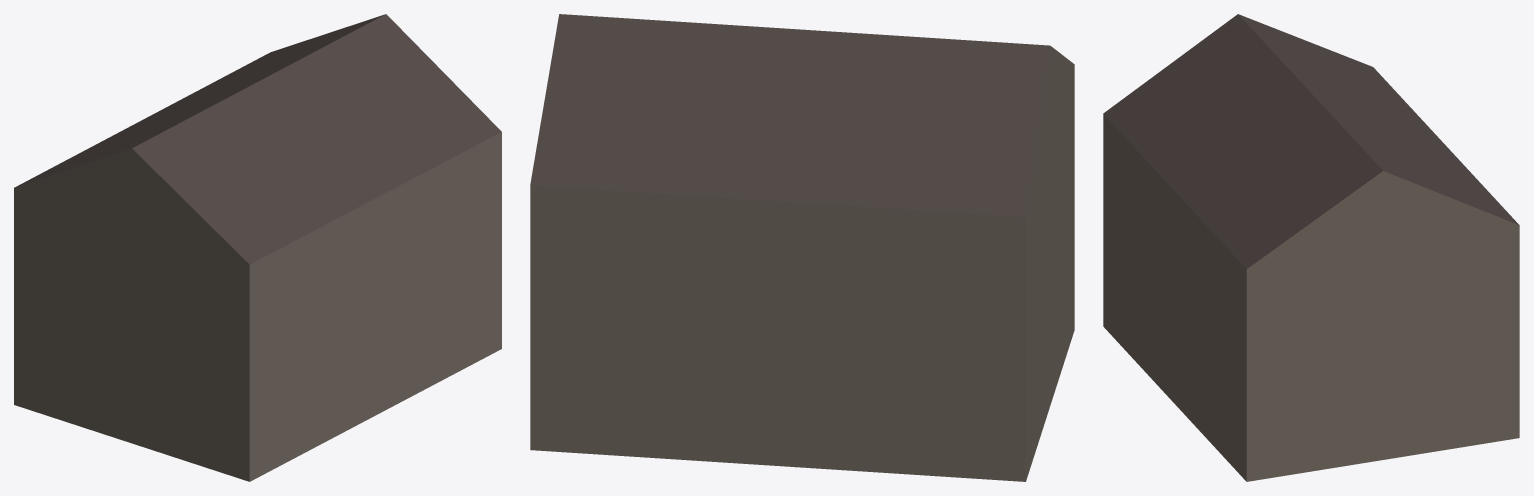
3 renders of one model, left to right at view 1: azimuth 30°, elevation 25°; view 2: azimuth 150°, elevation 25°; view 3: azimuth 270°, elevation 25°, orthographic. The views are drawn at different scales.
Parts seen in each view (by area): view 1: HP-w776801039; view 2: HP-w776801039; view 3: HP-w776801039.
Part boxes in pixels (x1,y1,x2,y2): HP-w776801039: (14, 14, 501, 481); HP-w776801039: (530, 14, 1074, 481); HP-w776801039: (1103, 14, 1519, 481).
Size of the model in its own units: 12.24 by 8.16 by 10.65.
